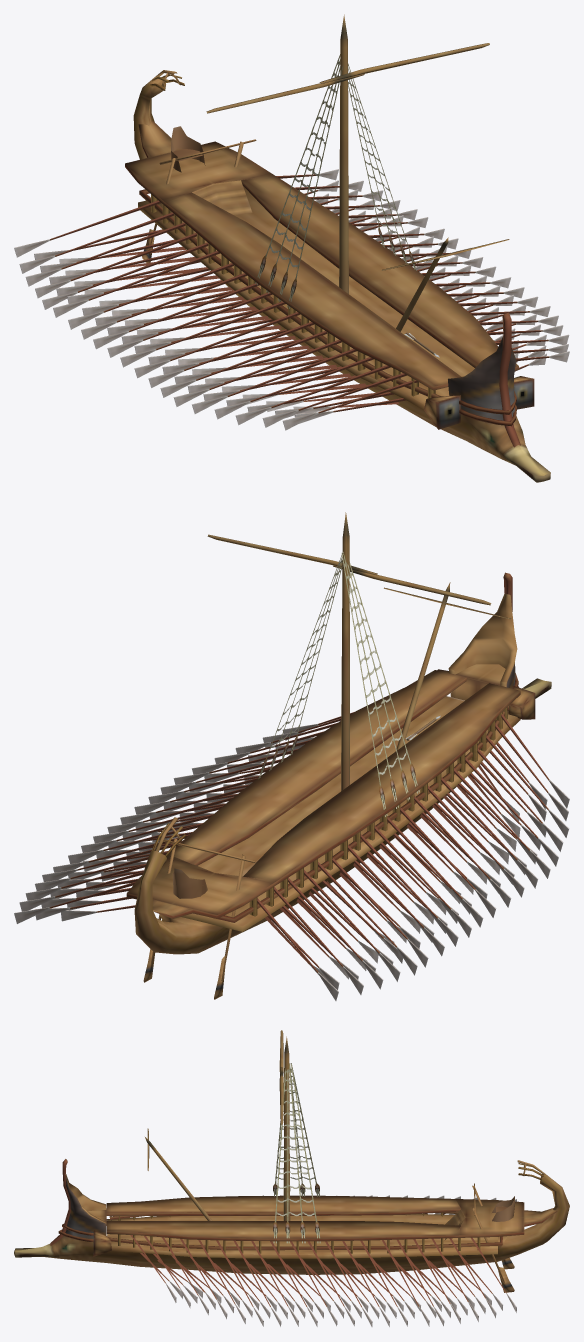
Rendered from 0ad-ancient.5dec8b5eb0ab.trireme.glb.
3 renders of one model, top to bottom at view 1: azimuth 30°, elevation 25°; view 2: azimuth 150°, elevation 25°; view 3: azimuth 270°, elevation 25°, orthographic. The views are drawn at different scales.
Visible parts, largest first — view 1: structures/hellenes/trireme.xml; view 2: structures/hellenes/trireme.xml; view 3: structures/hellenes/trireme.xml.
Boxes of the visible parts, <box> form: structures/hellenes/trireme.xml: <box>14,14,569,482</box>; structures/hellenes/trireme.xml: <box>14,512,569,1000</box>; structures/hellenes/trireme.xml: <box>14,1030,569,1326</box>.
Bounding box in the file's own units: 24.76 × 22.46 × 46.22.
Materials: 2 (2 with a texture image).
